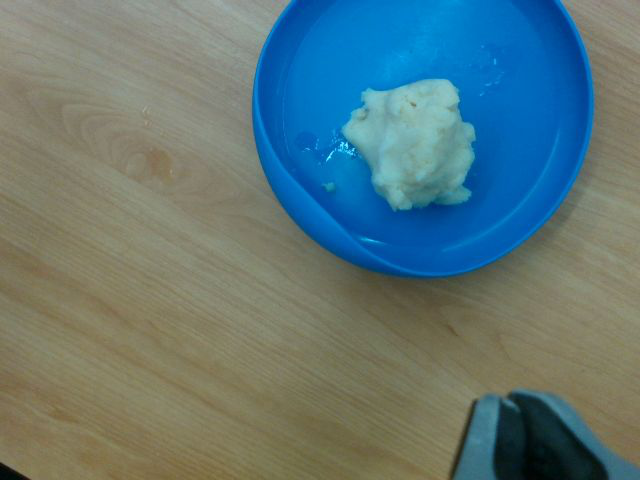mashed_potato: (343, 78, 471, 210)
